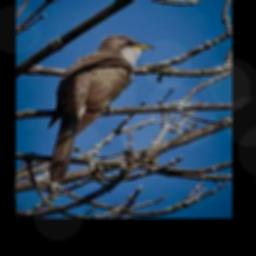Cuckoo: (46, 36, 153, 183)
